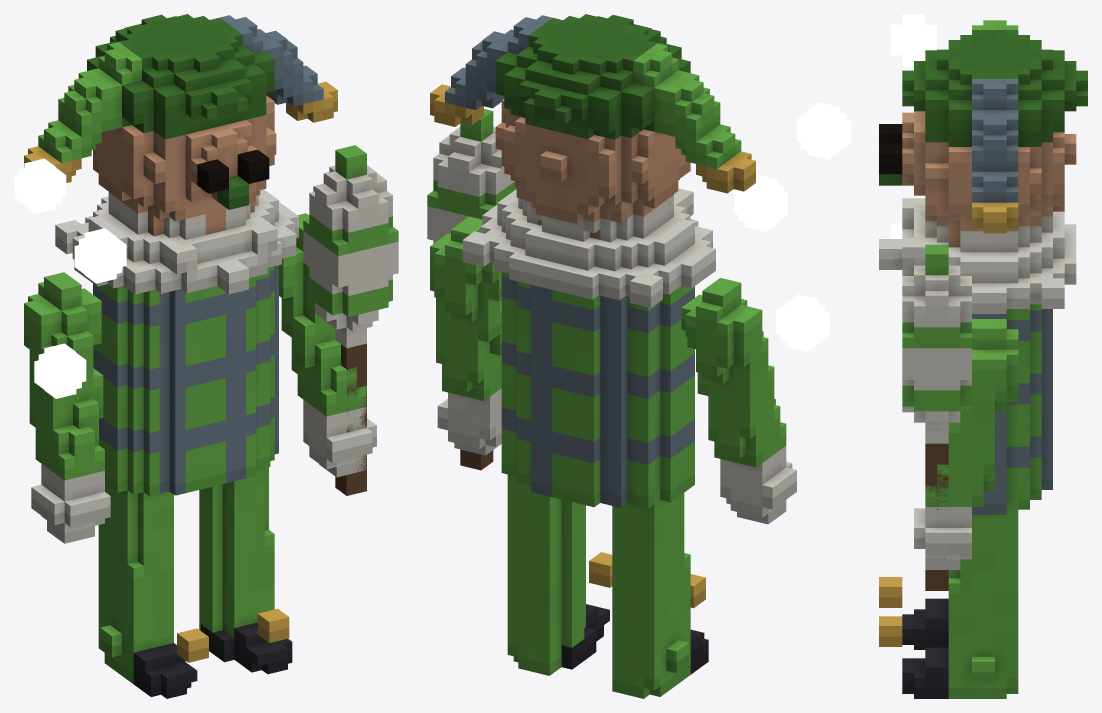
The model's file is u_moine__receleur.glb.
3 renders of one model, left to right at view 1: azimuth 30°, elevation 25°; view 2: azimuth 150°, elevation 25°; view 3: azimuth 270°, elevation 25°, orthographic. The views are drawn at different scales.
Parts seen in each view (by area): view 1: moine_body, moine_weapon, moine_glow; view 2: moine_body, moine_weapon, moine_glow; view 3: moine_body, moine_weapon, moine_glow.
Boxes of the visible parts, bbox=[...] form: moine_body: bbox=[24, 14, 376, 698]; moine_weapon: bbox=[303, 145, 398, 495]; moine_glow: bbox=[14, 158, 126, 398]; moine_body: bbox=[430, 14, 796, 698]; moine_weapon: bbox=[427, 109, 516, 470]; moine_glow: bbox=[734, 102, 850, 351]; moine_body: bbox=[879, 20, 1087, 698]; moine_weapon: bbox=[902, 244, 971, 590]; moine_glow: bbox=[890, 14, 936, 238].
Size of the model in its own units: 0.925 by 1.45 by 0.45.
